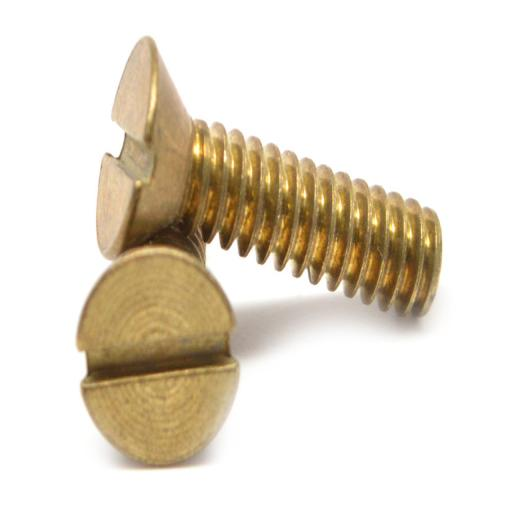Slotted: (79, 242, 239, 468)
